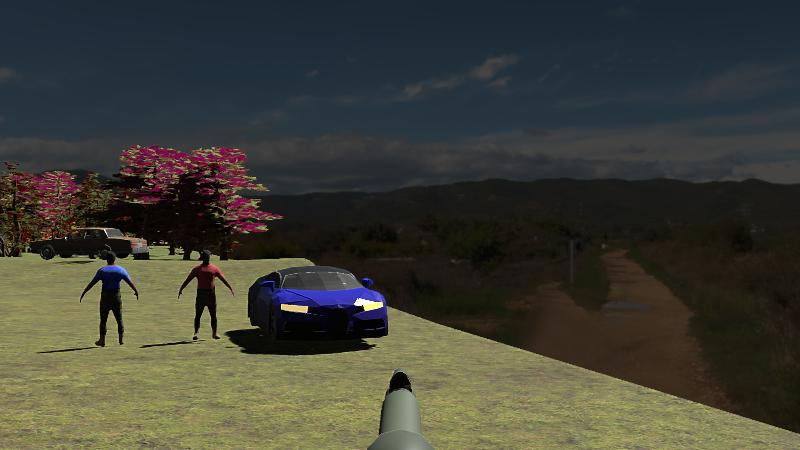Human: (79, 253, 139, 348), (178, 249, 233, 341)
car: (247, 264, 389, 341), (29, 226, 145, 260)
